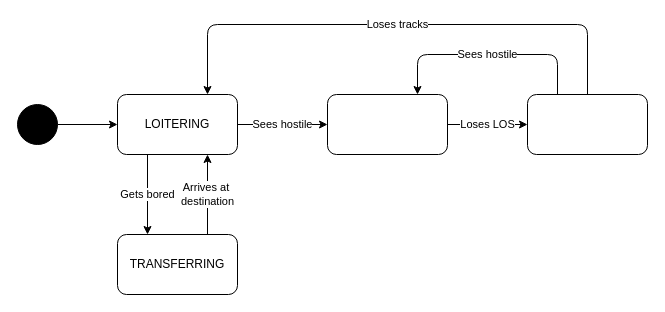
The diagram is 665 pixels wide and 312 high, and some of its shapes have lost their labels. Here are the shapes that lost their labels. From the top down, the centre of each, then its label:
At point 387,124: "ATTACKING".
At point 587,124: "HUNTING".
